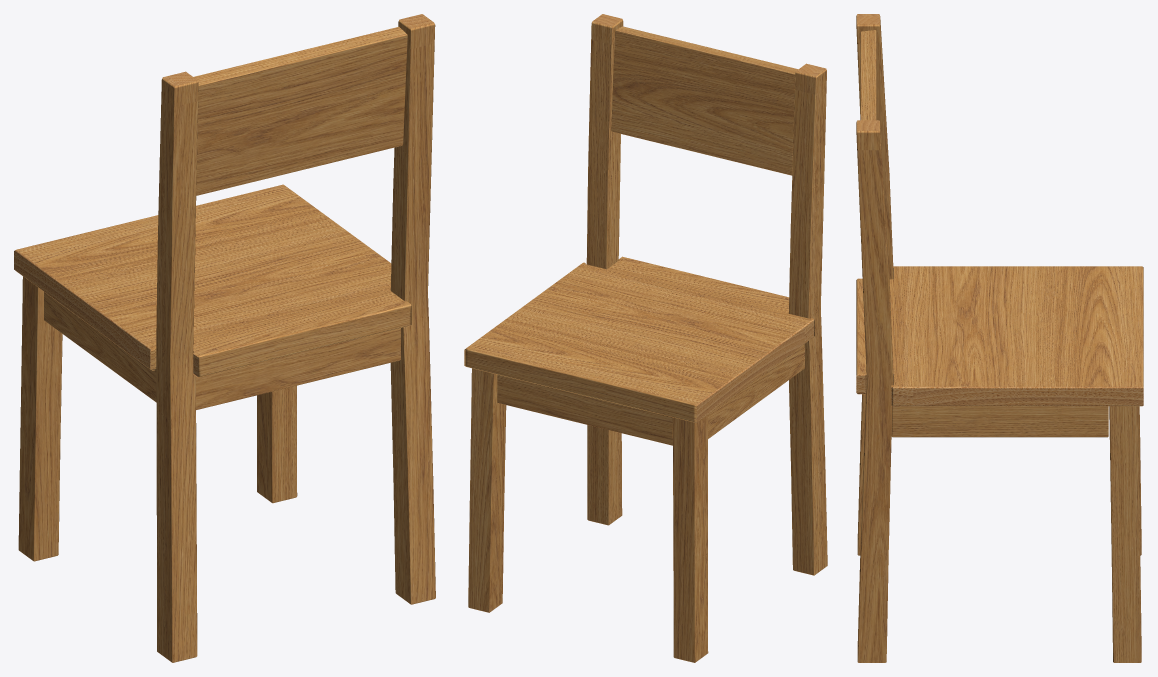
Rendered from chair.glb.
3 views of the same model, side by side, from view 1: azimuth 30°, elevation 25°; view 2: azimuth 150°, elevation 25°; view 3: azimuth 270°, elevation 25° (orthographic). The views are drawn at different scales.
Visible parts, largest first — view 1: chair; view 2: chair; view 3: chair.
Part boxes in pixels (x1,y1,x2,y2): chair: (14, 14, 435, 662); chair: (464, 14, 827, 662); chair: (856, 14, 1143, 662).
Size of the model in its own units: 0.48 by 0.98 by 0.48.
Materials: 2 (2 with a texture image).
